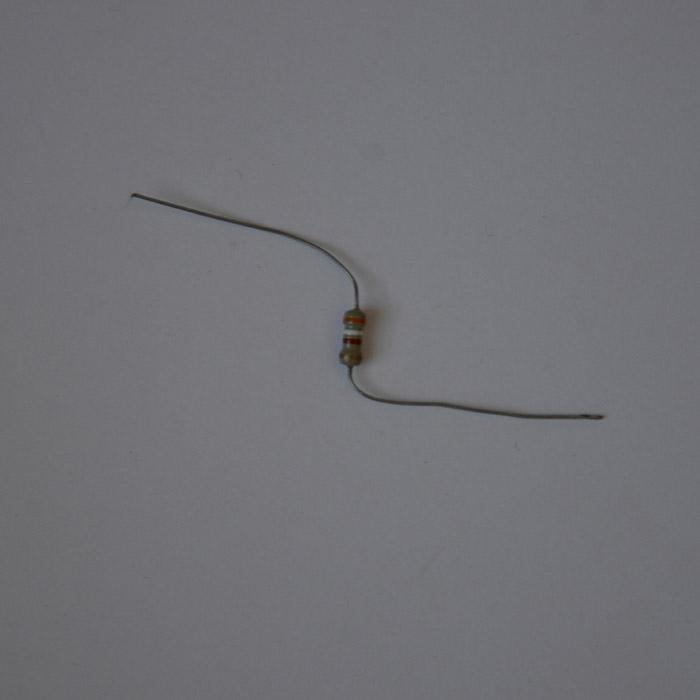resistor: (333, 304, 371, 372)
